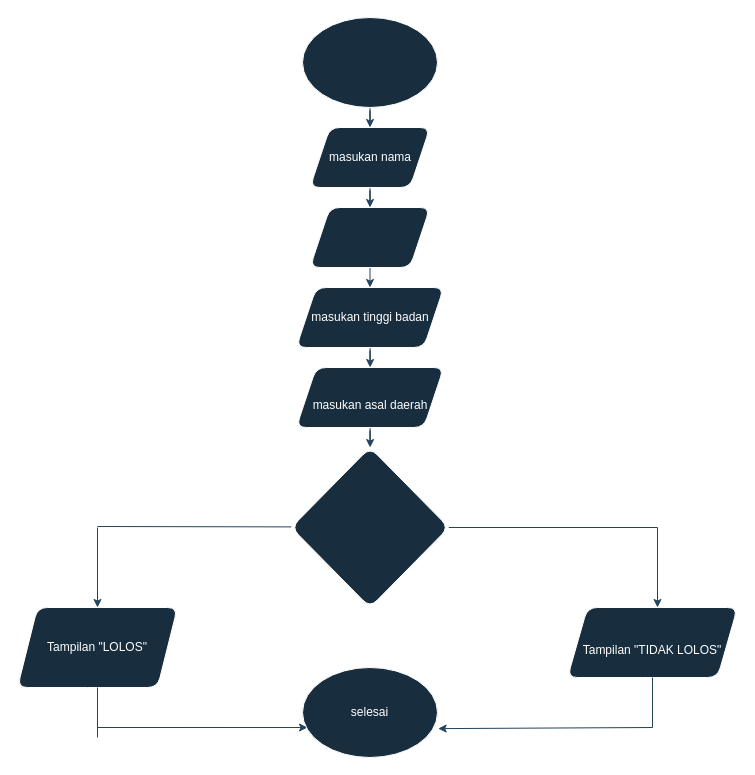
The diagram is 755 pixels wide and 775 high, and some of its shapes have lost their labels. The shapes that lost their labels are listed below. From the top down, each one's centre as x and y in pixels, then its label:
At pixel 370 62: "start".
At pixel 369 237: "masukan umur".
At pixel 369 527: "apakah memenuhi persyaratan untuk lolos?".
